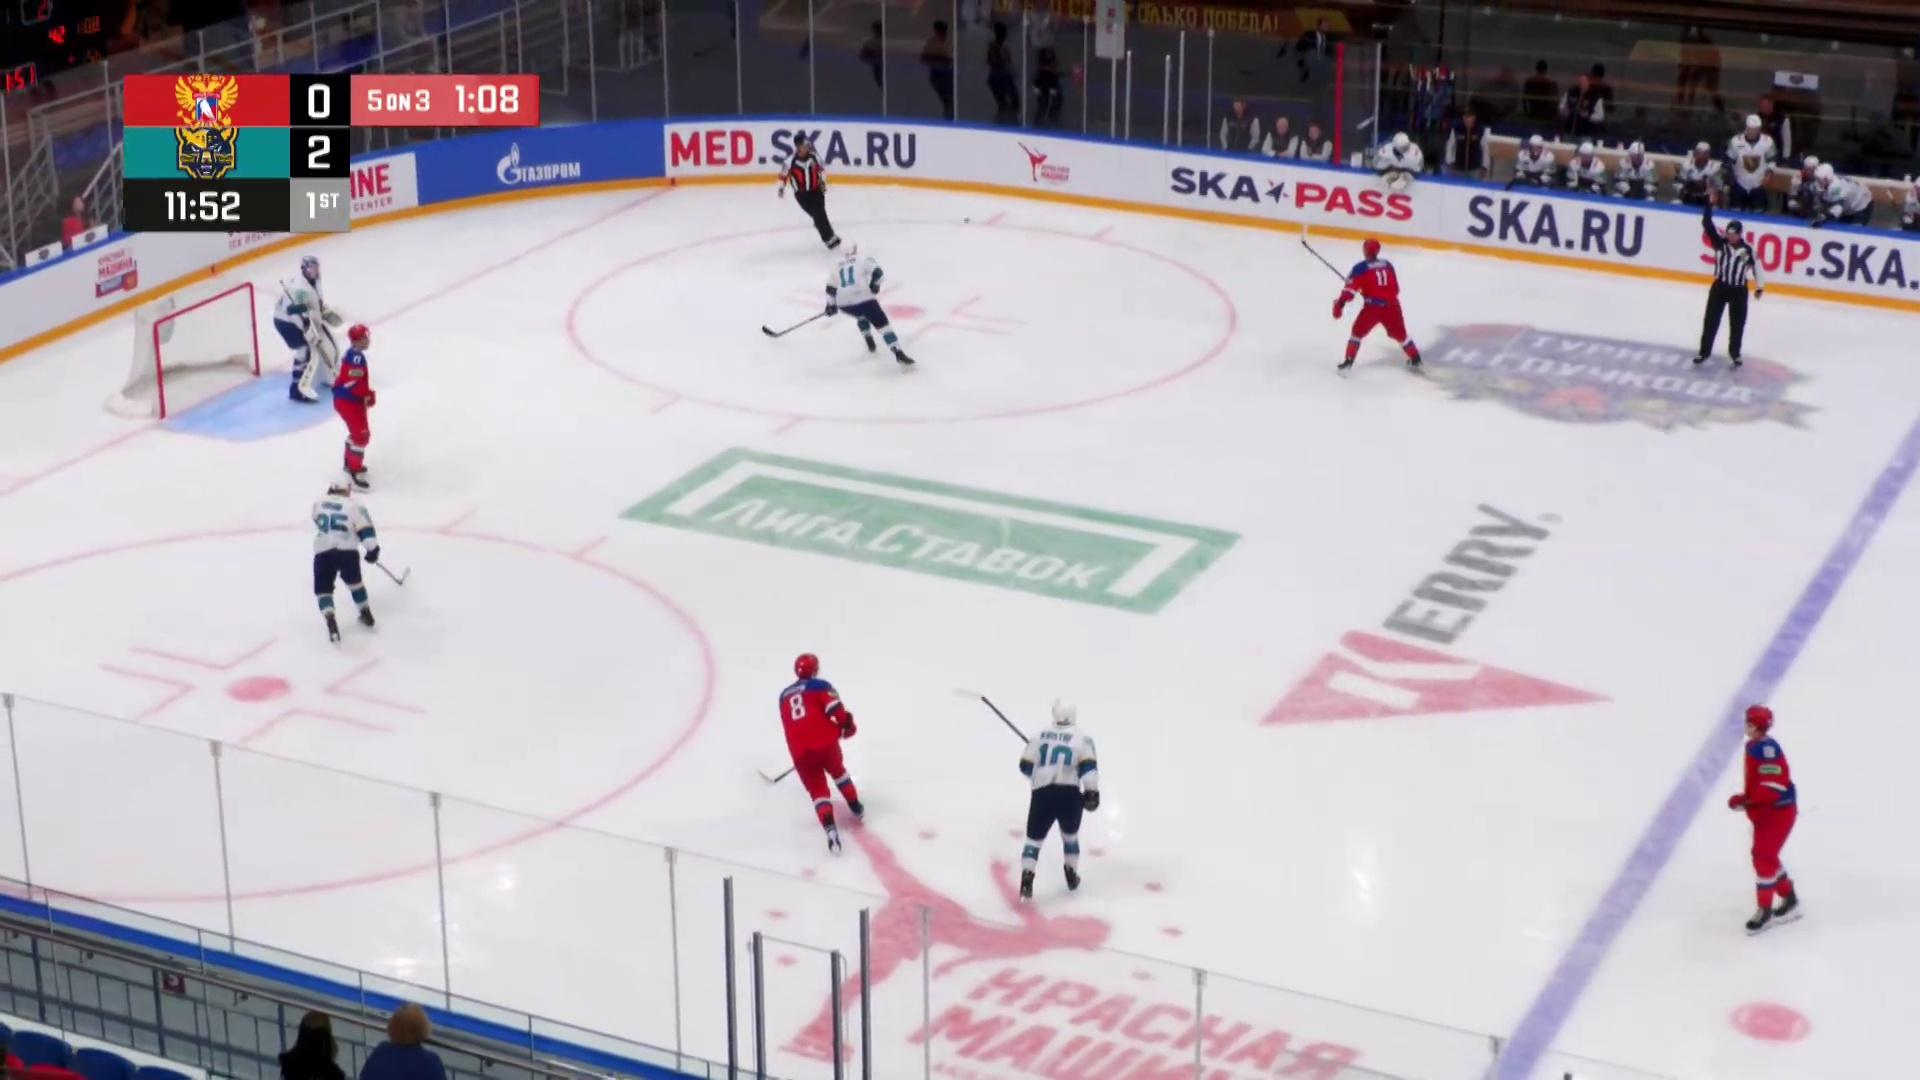ball: (964, 218, 971, 224)
